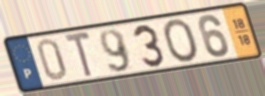0: (35, 37, 69, 83)
3: (131, 21, 167, 69)
6: (197, 13, 230, 59)
9: (99, 27, 134, 73)
O: (161, 17, 201, 64)
T: (63, 29, 94, 80)
